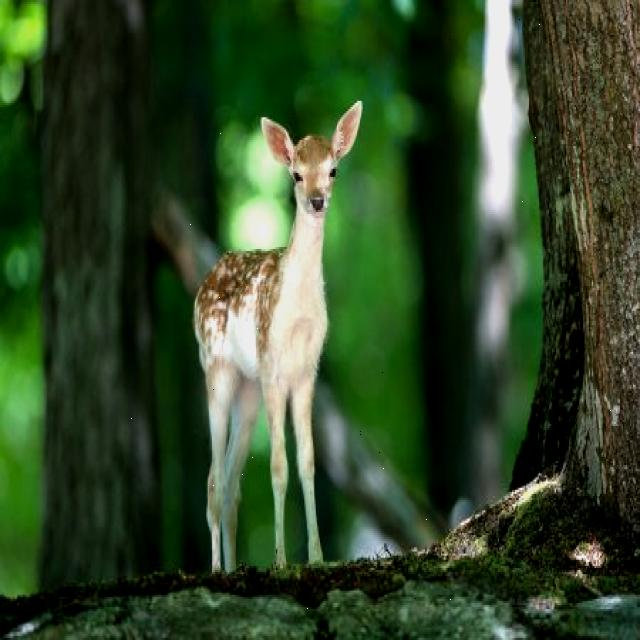deer: (248, 92, 358, 292)
